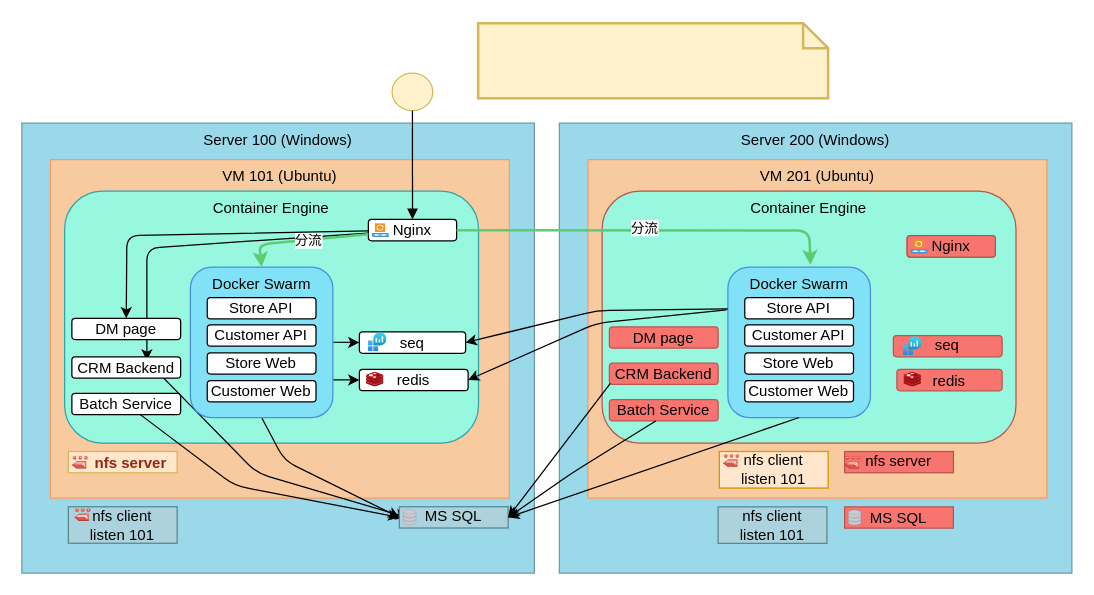
The diagram is 1094 pixels wide and 595 high, and some of its shapes have lost their labels. Here are the shapes that lost their labels. From the top down, the centre of each, then its label:
At pixel 652 60: "1. netplan 192.168.168.n 2. red indicates idle for manual standby".
At pixel 412 91: "c lient".
